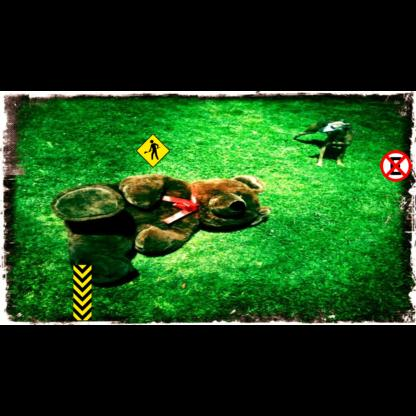A-24: (136, 133, 170, 168)
O-MP: (73, 265, 91, 320)
R-6c: (380, 150, 412, 182)
